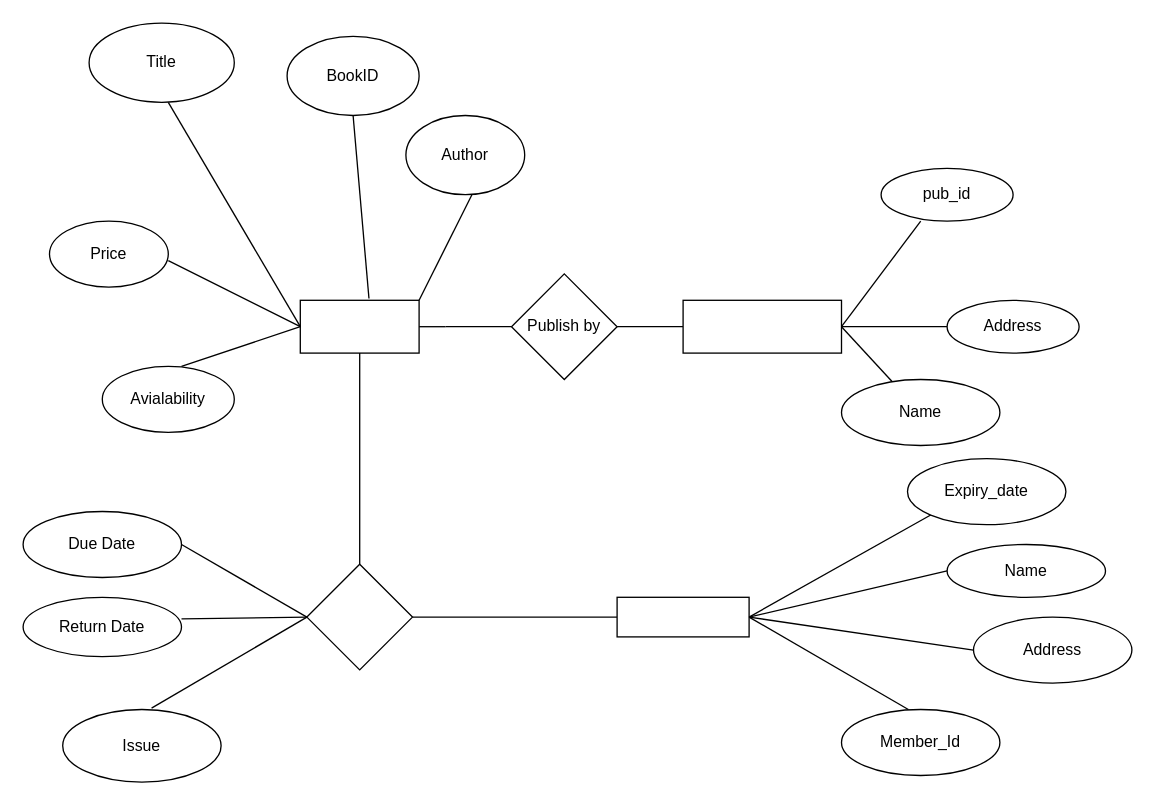
Some shapes in this 1155 by 805 pixel diagram are drawn without their labels. Here are the shapes that lost their labels. From the top down, the centre of each, then its label:
At point 359,326: "Book".
At point 762,326: "Publisher".
At point 359,616: "Borrowed By".
At point 682,616: "Member".
